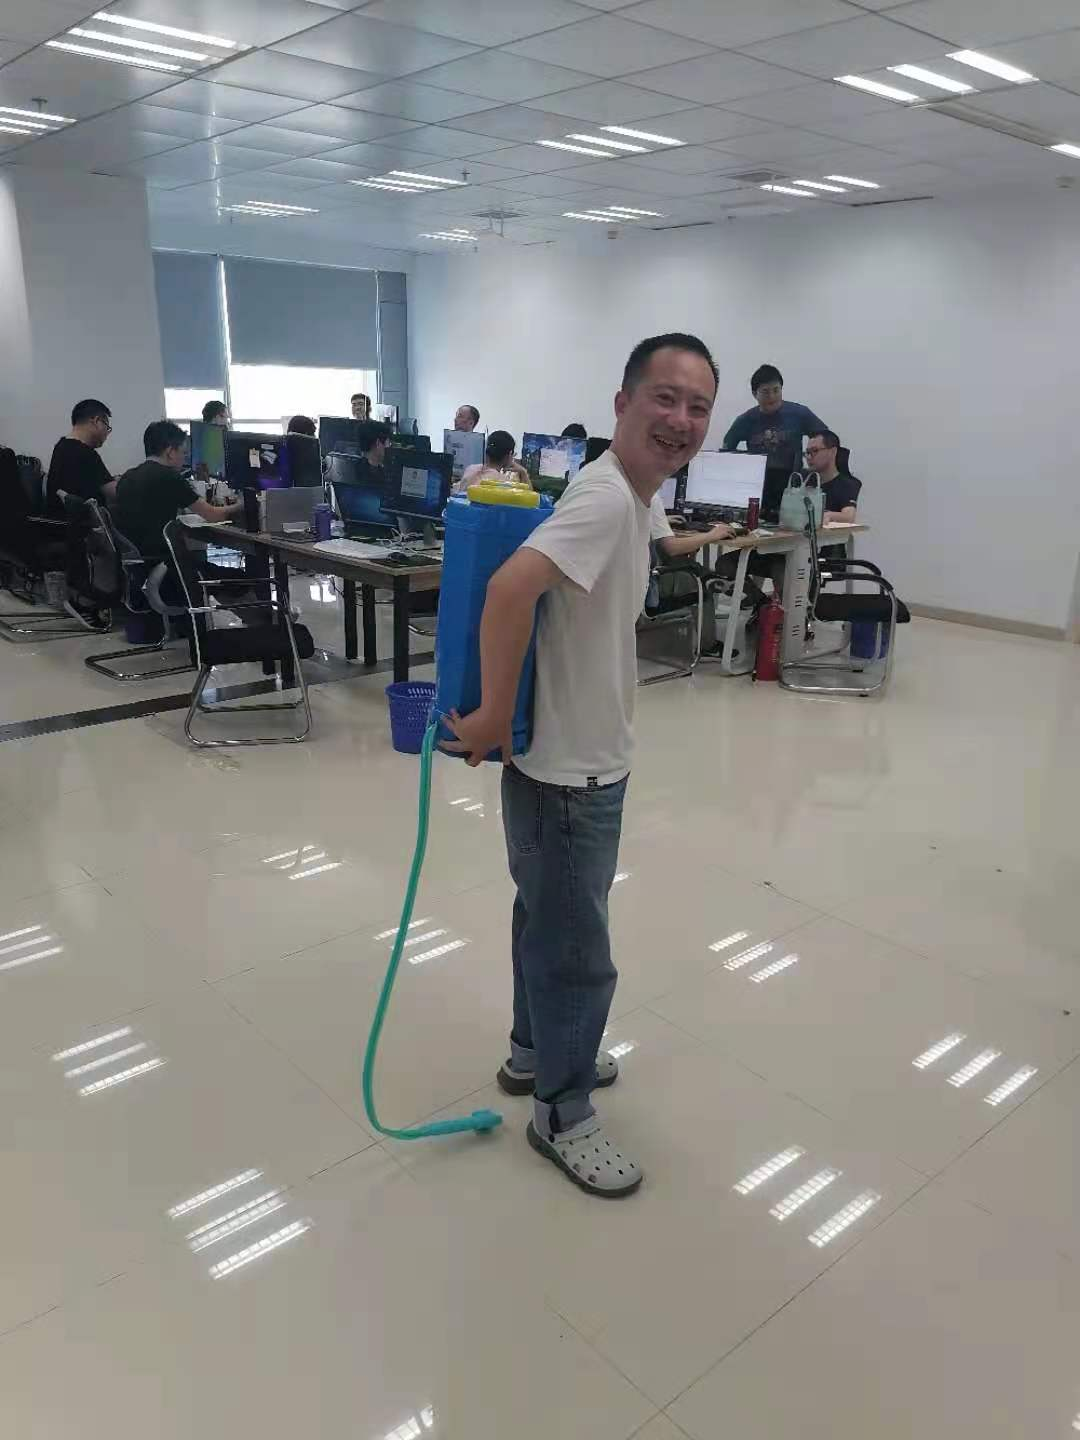berrl: (422, 468, 560, 772)
